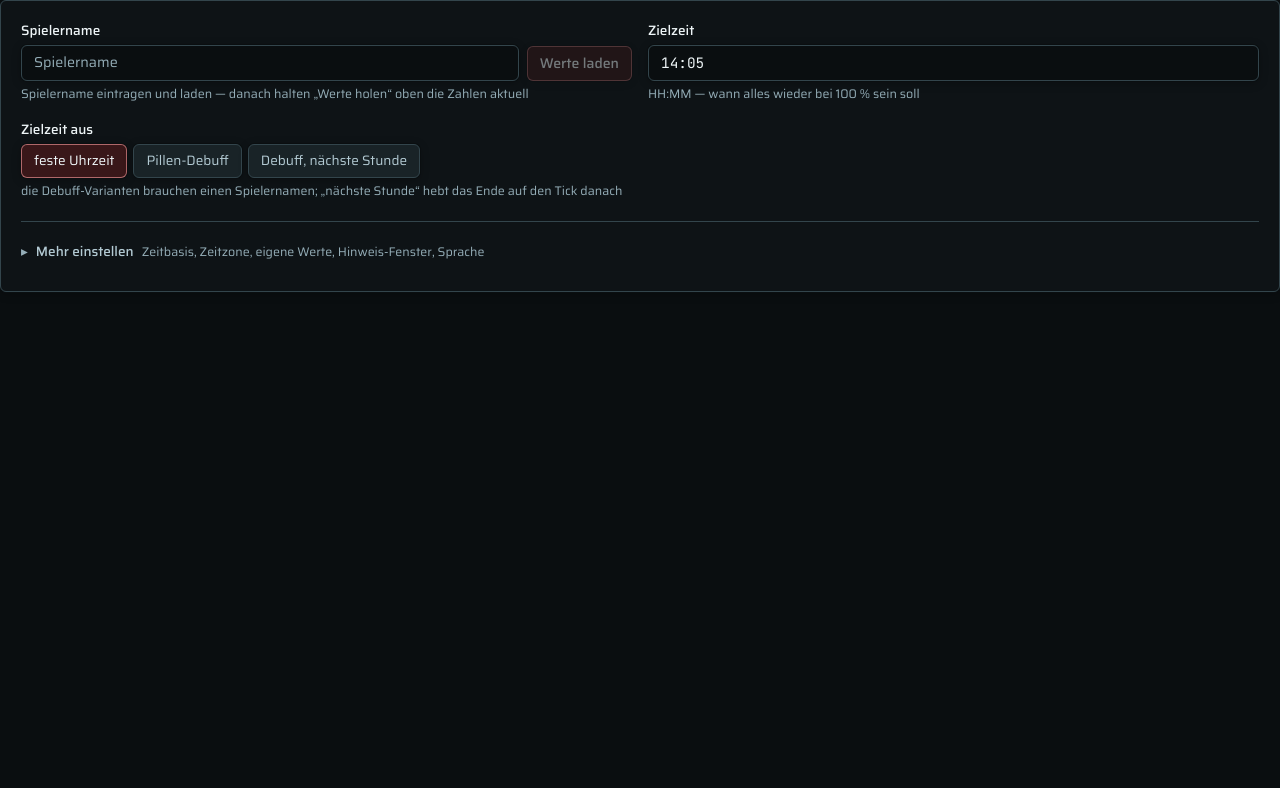
it: Einstellungen › macht die Gutschrift pro Tick nirgends einstellbar
Sie ist max / 10 — eine Rechnung des Spiels, keine Frage an den Nutzer.
Click the heading at {"x": 253, "y": 252}, box 21,241 -> 484,262
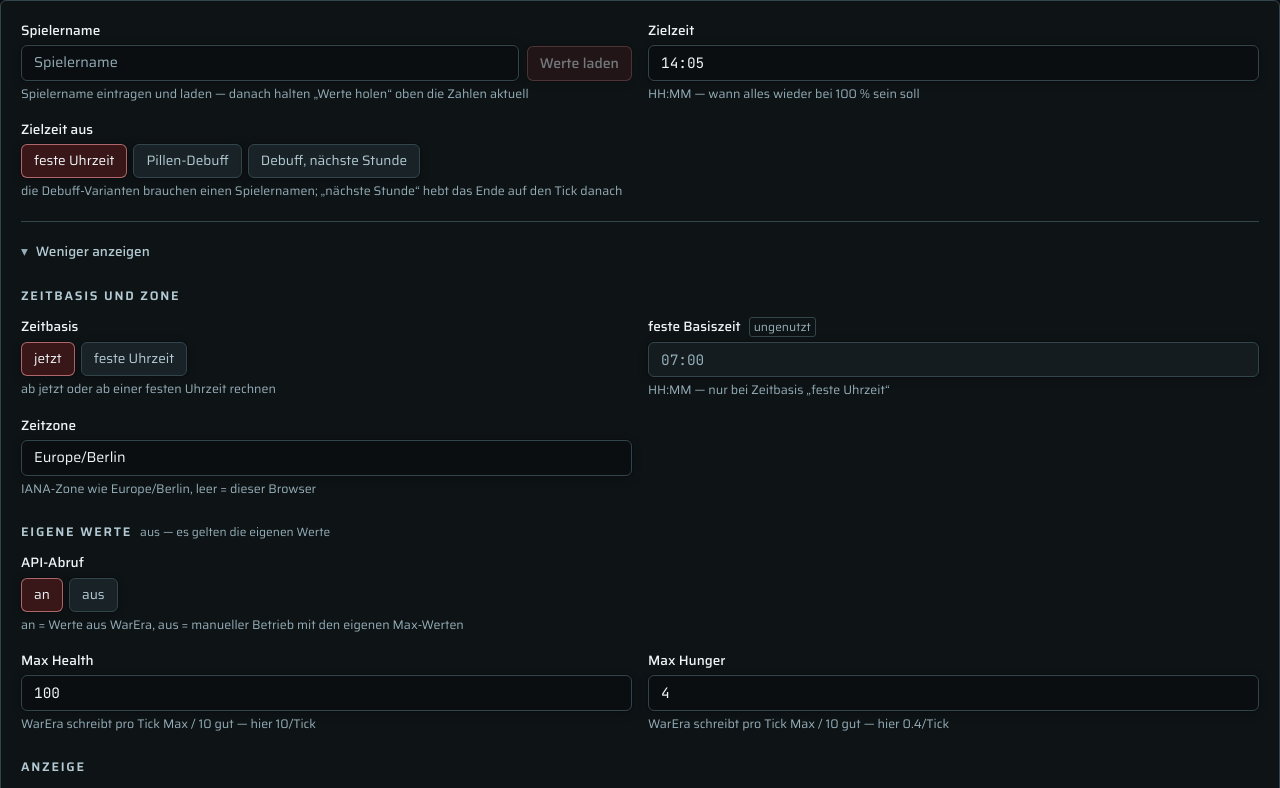
expect the text "Max / 10" is shown: met, box 21,714 -> 316,733
